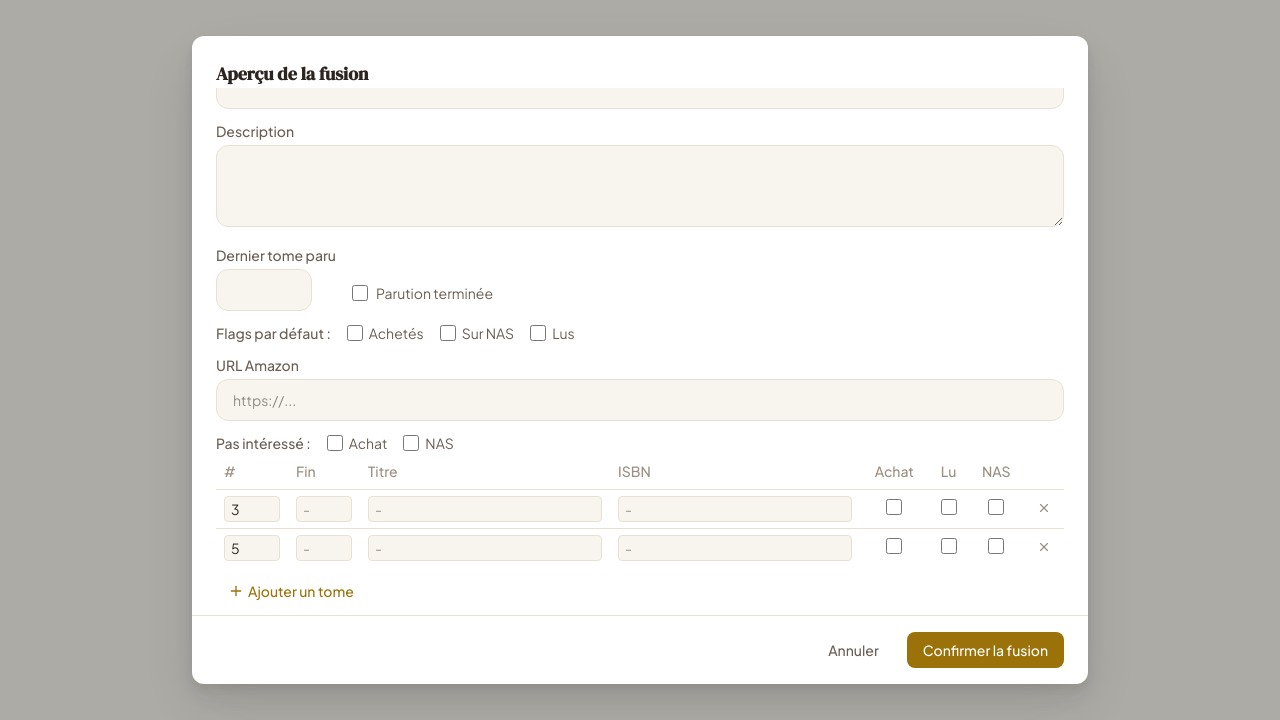
Test: MergePreviewModal — add tome › assigns next number to the new tome
(page scrolled)
Click the button "Ajouter un tome" at x=291, y=591, box [216, 575, 366, 607]
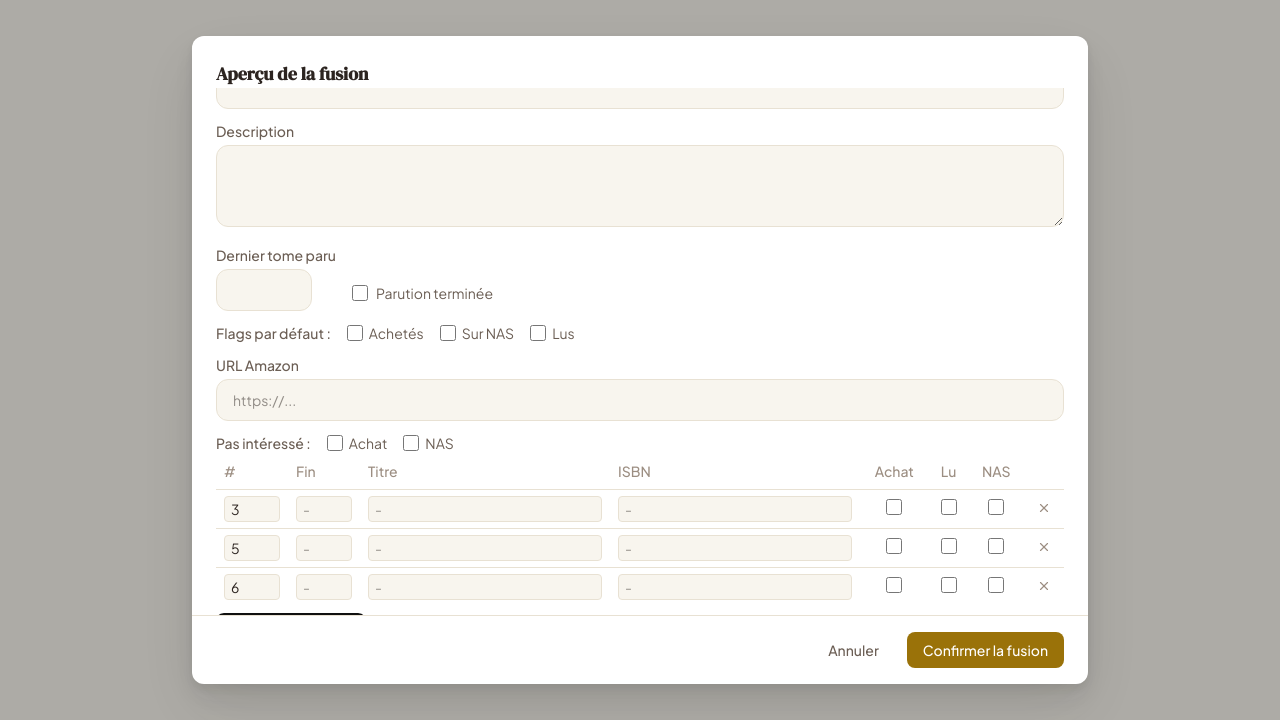
expect the 6th number field holds "6": met, box [224, 574, 280, 600]
